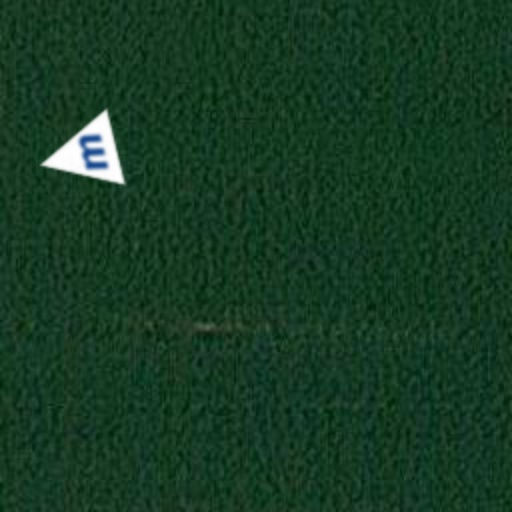triangle: (30, 108, 126, 204)
